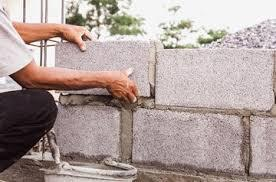brick: (155, 50, 272, 110), (132, 110, 243, 173), (250, 117, 275, 177)
